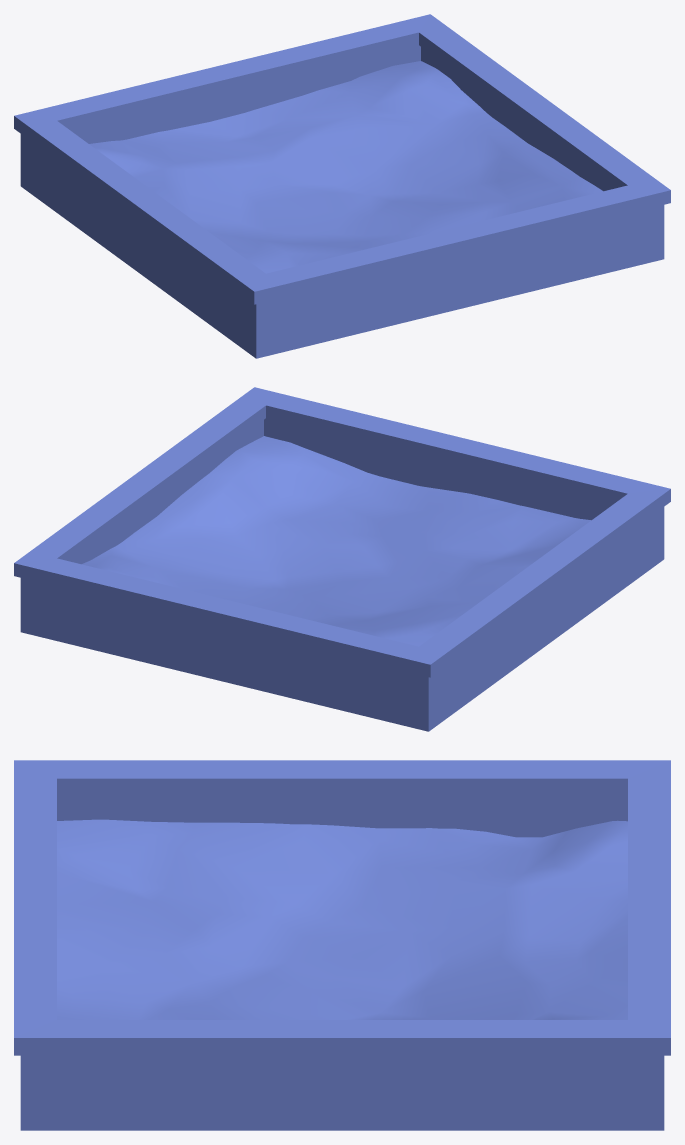
File: Sandbox.fbx
3 renders of one model, top to bottom at view 1: azimuth 30°, elevation 25°; view 2: azimuth 150°, elevation 25°; view 3: azimuth 270°, elevation 25°, orthographic. The views are drawn at different scales.
Parts seen in each view (by area): view 1: sandbox_base, sandbox_ground; view 2: sandbox_base, sandbox_ground; view 3: sandbox_base, sandbox_ground.
Part boxes in pixels (<box>): sandbox_base: <box>14,14,670,358</box>; sandbox_ground: <box>89,61,602,273</box>; sandbox_base: <box>14,387,670,731</box>; sandbox_ground: <box>82,436,591,646</box>; sandbox_base: <box>14,760,670,1130</box>; sandbox_ground: <box>57,819,627,1019</box>.
Size of the model in its own units: 200 by 31.96 by 200.
